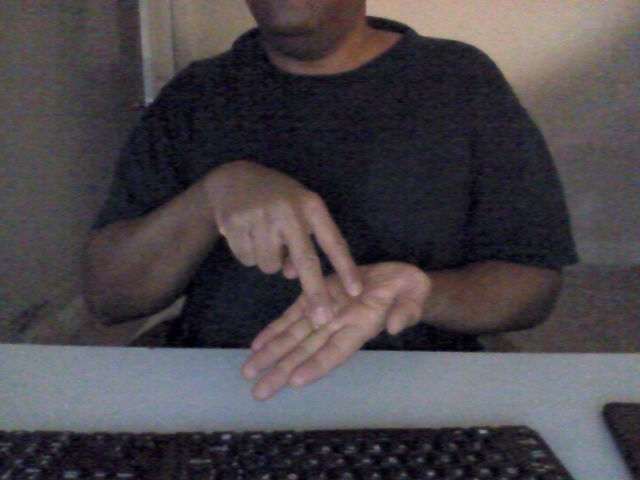fork: (209, 155, 432, 407)
